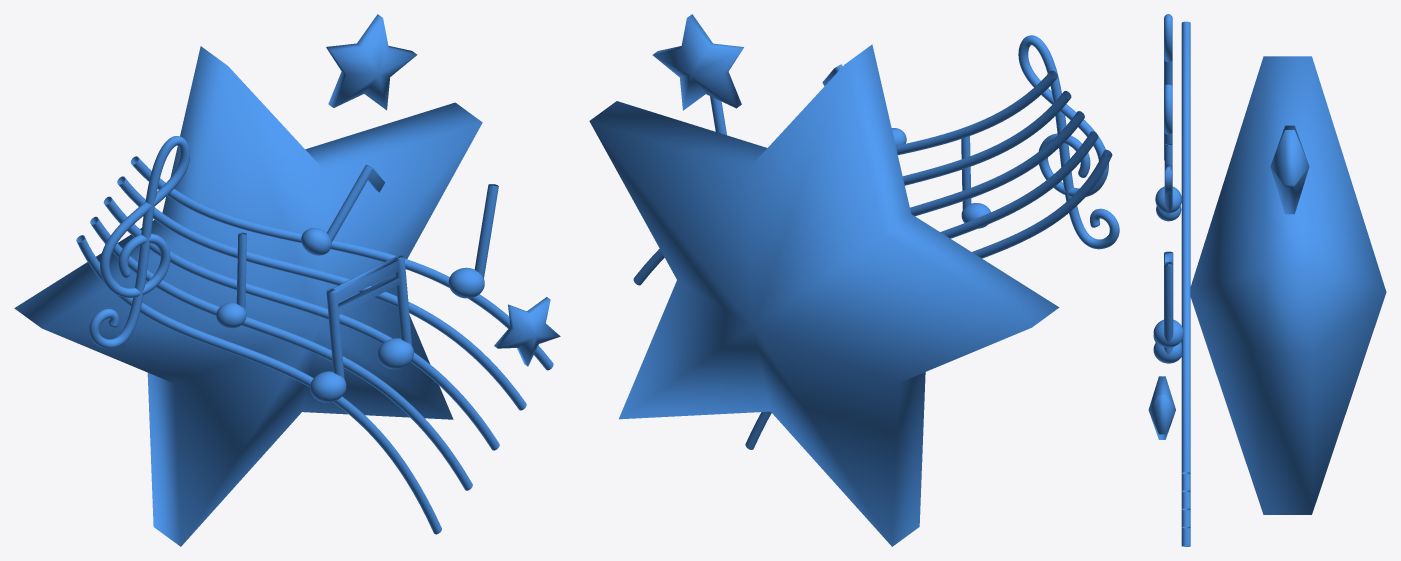
Rendered from star.glb.
The picture shows the model from 3 angles, left to right: view 1: azimuth 30°, elevation 25°; view 2: azimuth 150°, elevation 25°; view 3: azimuth 270°, elevation 25°; orthographic projection. The views are drawn at different scales.
Visible parts, largest first — view 1: star1, manuscript4, clef, note1, star2, star3, note2, note3, note4; view 2: star1, manuscript4, clef, star2, note4; view 3: star1, manuscript4, star2, note2, clef, star3, note3, note1, note4.
Part boxes in pixels (x1=…): star1: x1=14, y1=46, x2=482, y2=546; manuscript4: x1=76, y1=156, x2=553, y2=534; clef: x1=89, y1=136, x2=189, y2=348; note1: x1=310, y1=255, x2=413, y2=402; star2: x1=326, y1=14, x2=417, y2=110; star3: x1=494, y1=297, x2=560, y2=366; note2: x1=448, y1=184, x2=498, y2=298; note3: x1=301, y1=164, x2=385, y2=255; note4: x1=216, y1=232, x2=246, y2=328; star1: x1=589, y1=44, x2=1059, y2=546; manuscript4: x1=633, y1=70, x2=1112, y2=449; clef: x1=1018, y1=35, x2=1119, y2=249; star2: x1=652, y1=14, x2=743, y2=110; note4: x1=961, y1=136, x2=990, y2=228; star1: x1=1190, y1=56, x2=1386, y2=514; manuscript4: x1=1181, y1=21, x2=1190, y2=546; star2: x1=1270, y1=125, x2=1309, y2=214; note2: x1=1153, y1=262, x2=1183, y2=347; clef: x1=1164, y1=14, x2=1172, y2=160; star3: x1=1148, y1=376, x2=1175, y2=439; note3: x1=1155, y1=164, x2=1181, y2=213; note1: x1=1153, y1=251, x2=1181, y2=363; note4: x1=1156, y1=143, x2=1181, y2=221.
Bounding box in the file's own units: 1.83 × 1.75 × 0.8967.
